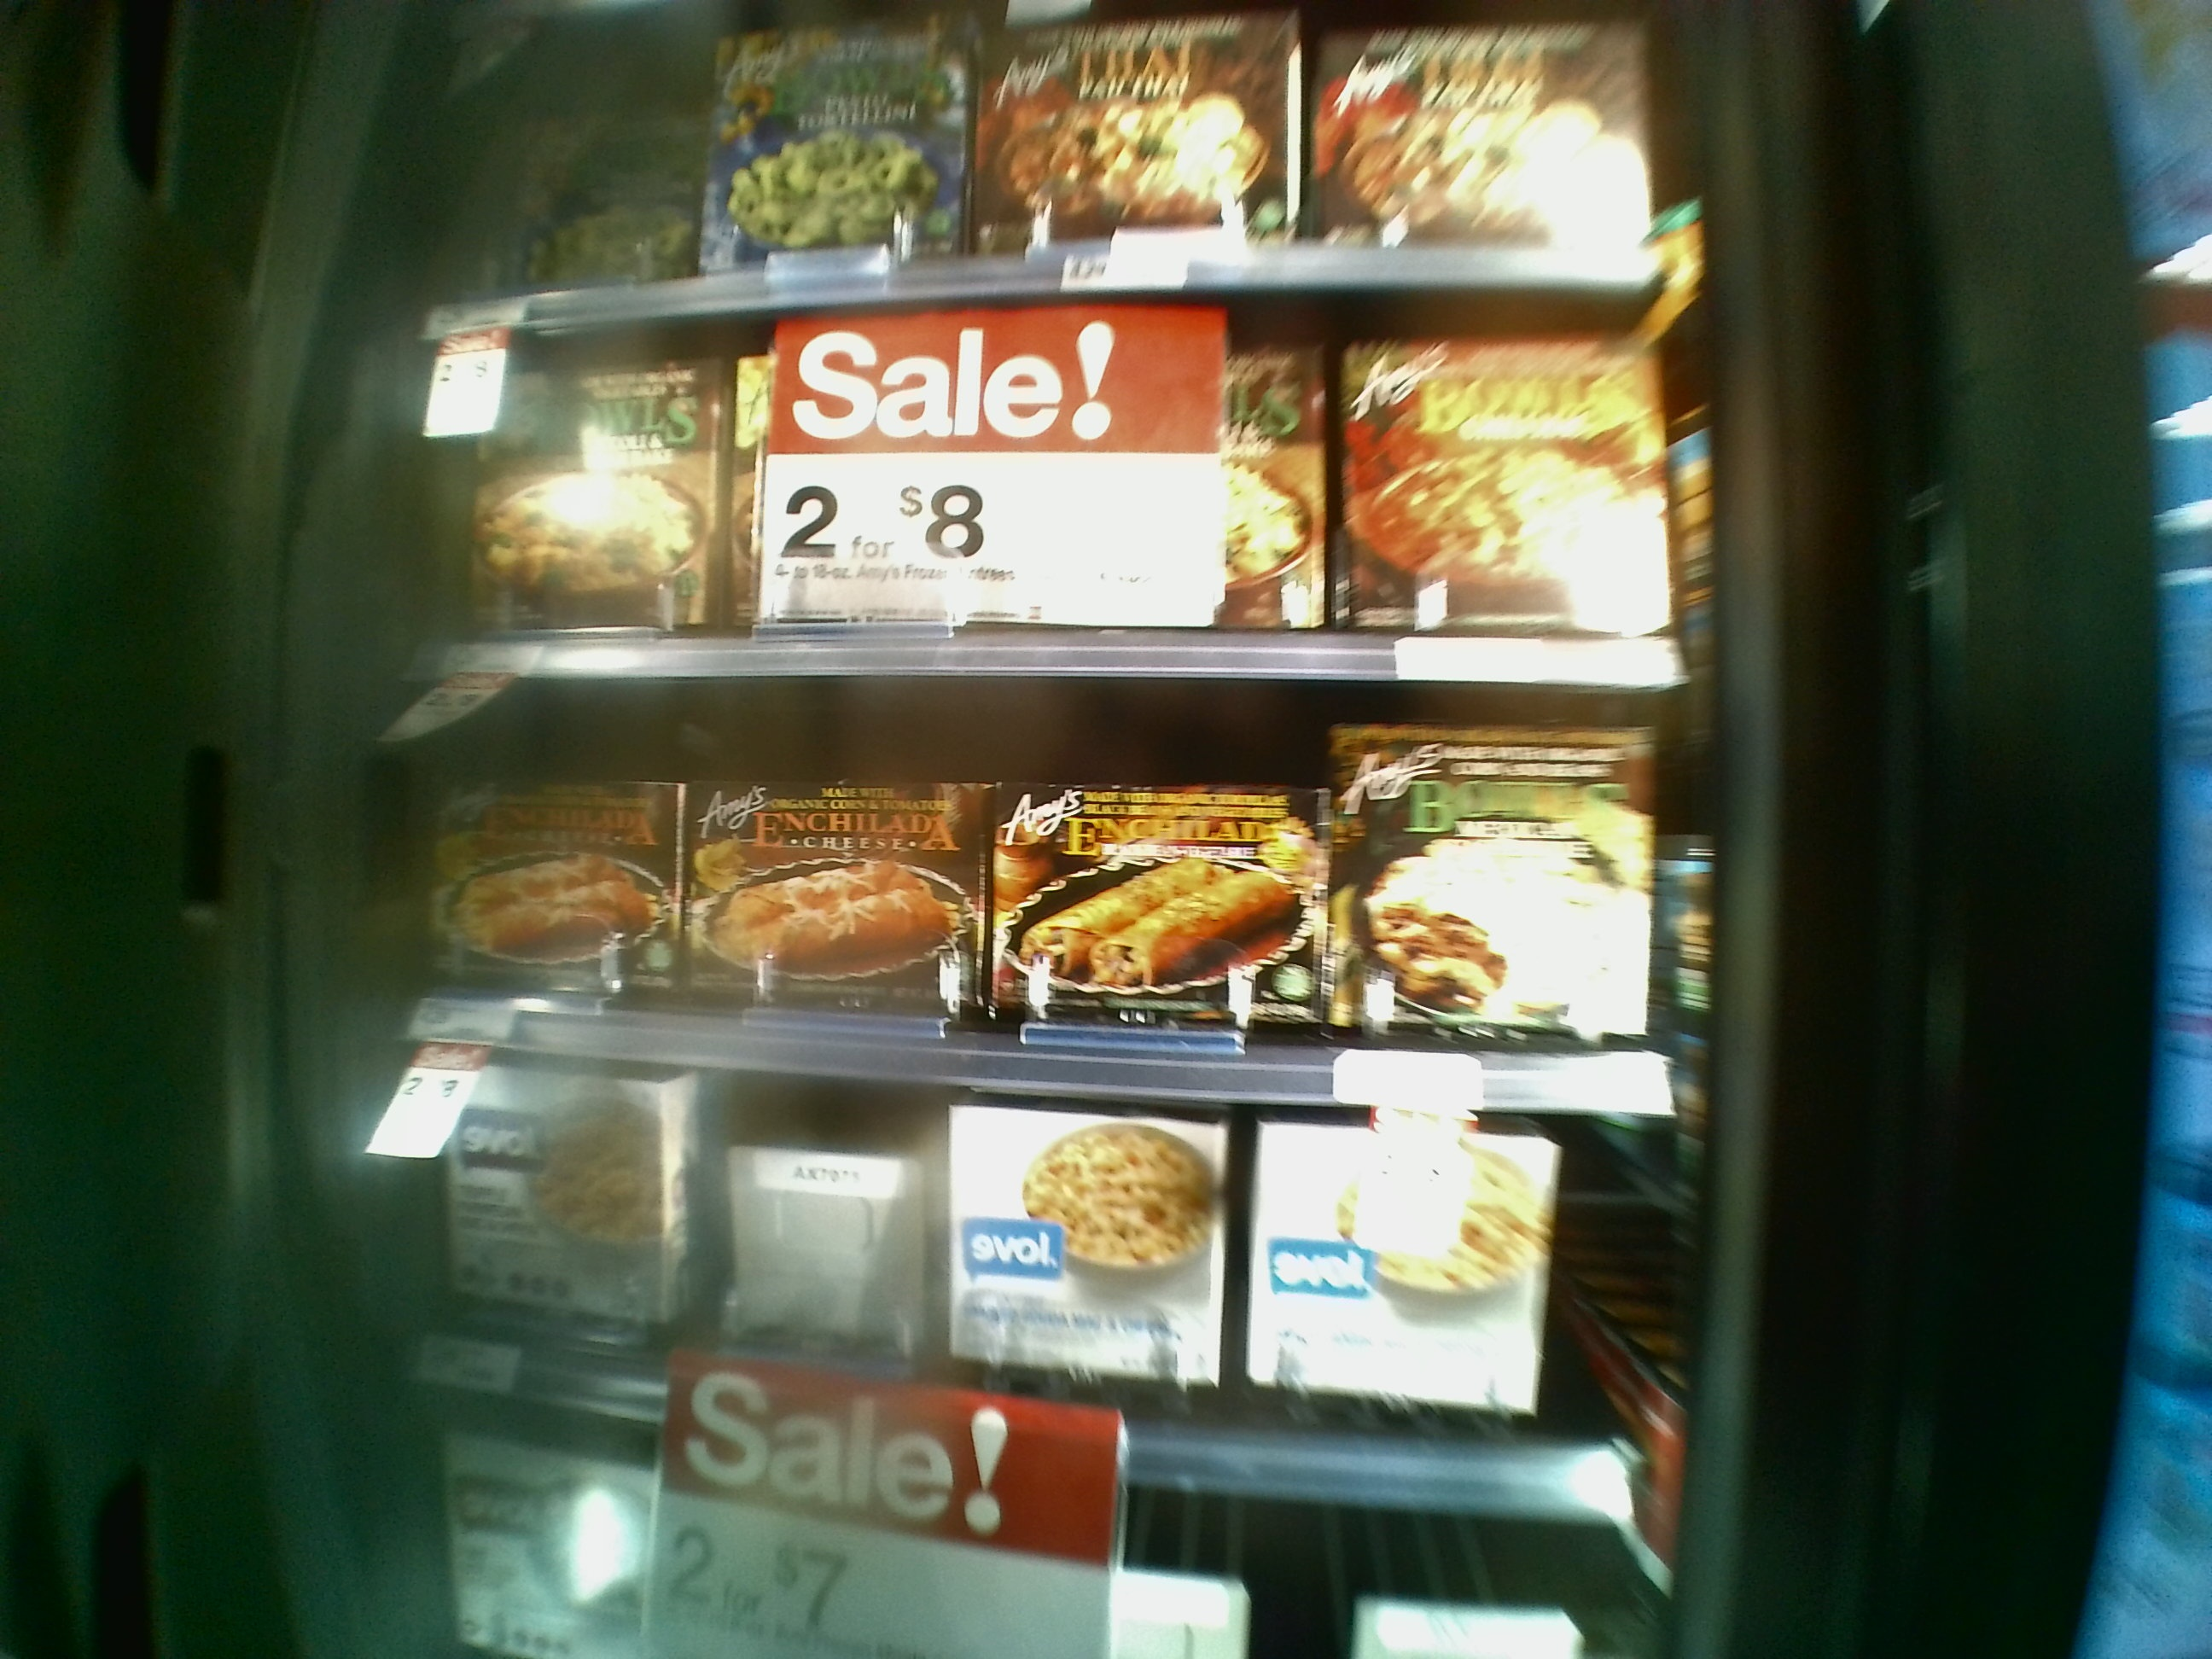shelf: (423, 1040, 1660, 1514), (442, 688, 1707, 1115), (446, 317, 1695, 688)
